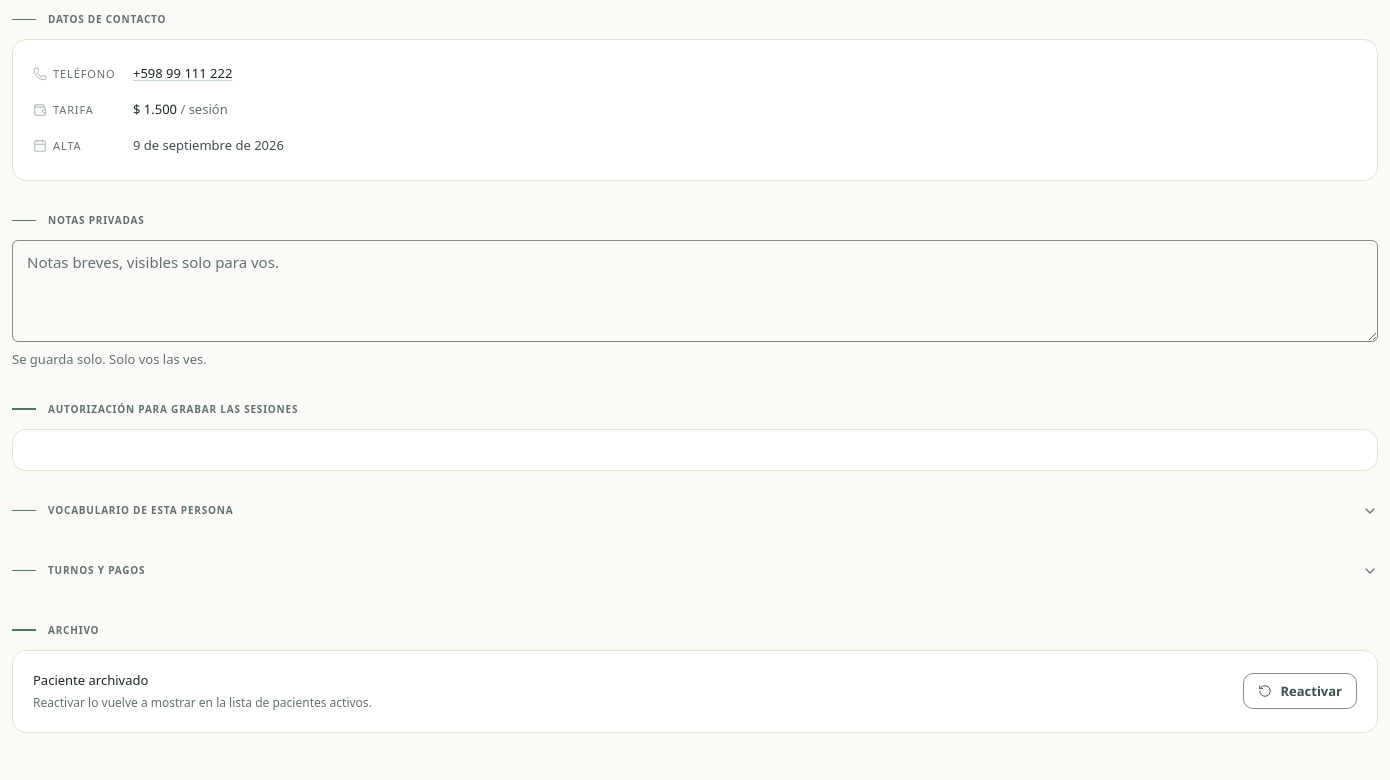
Scenario: los avisos distinguen un rechazo de una operación confirmada › reactivar desde la ficha: éxito=true
Click the button "Reactivar". click: (1300, 691)
box: [1243,673,1357,709]
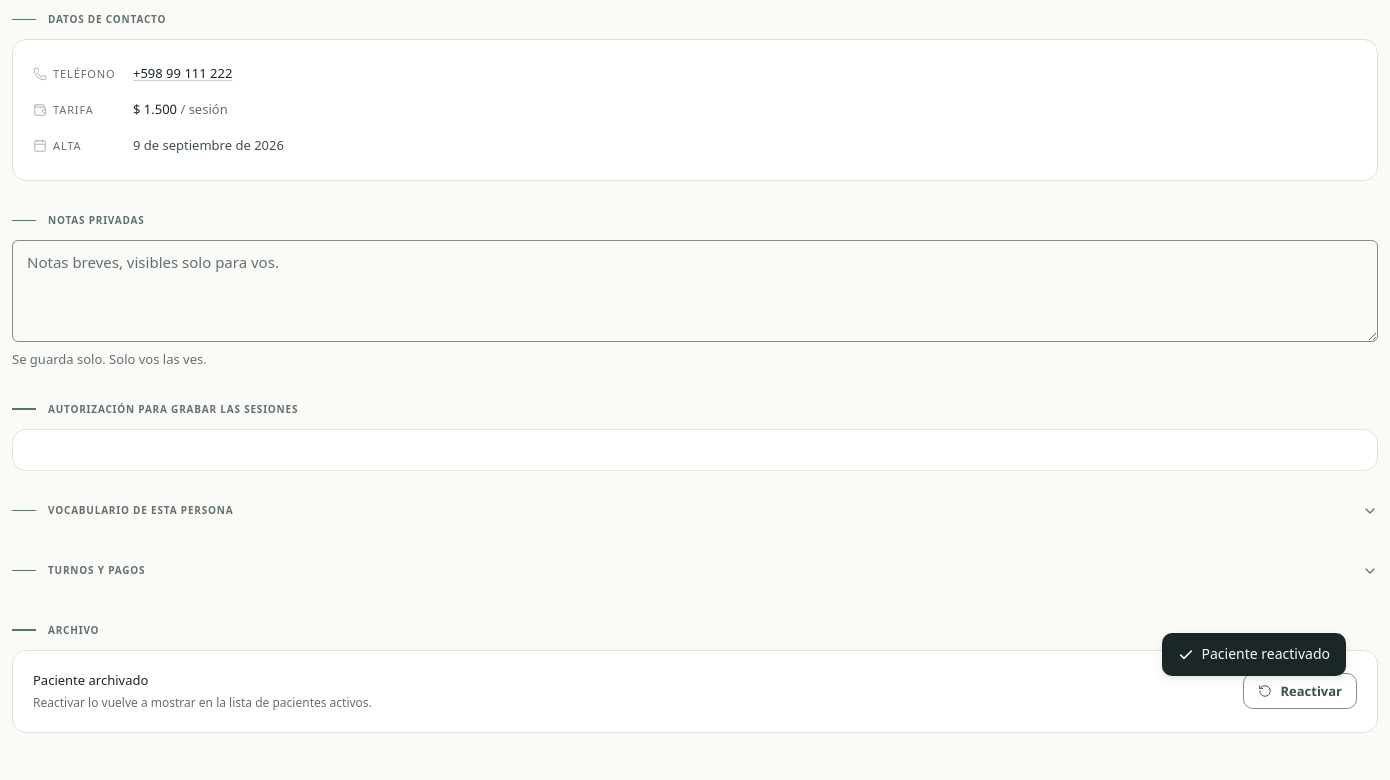
Now the message "Paciente reactivado" is shown, box [1162,633,1346,676]
